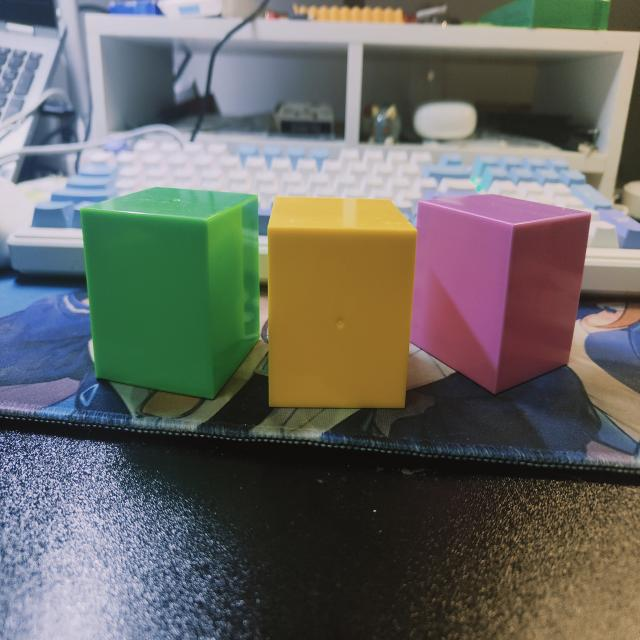green: (79, 188, 262, 403)
pink: (409, 190, 598, 398)
yellow: (266, 197, 418, 412)
